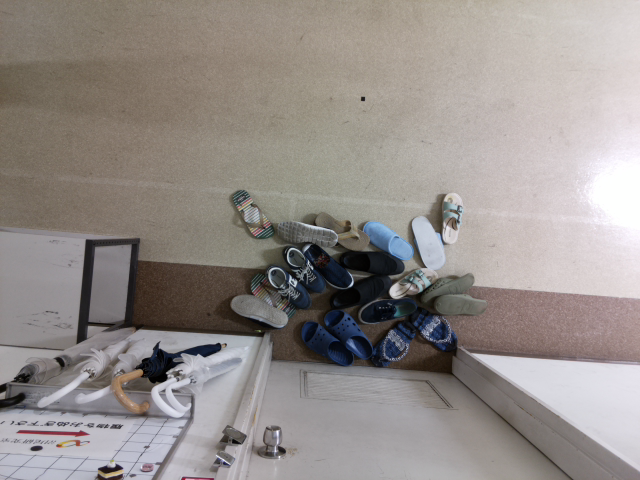Copy of Copy of Copy of Copy of Copy of Copy of Copy of Copy of Copy of Copy of: (322, 304, 374, 361), (296, 318, 355, 368), (368, 315, 420, 371), (407, 300, 459, 356), (227, 289, 288, 330), (246, 272, 299, 319), (354, 291, 419, 327), (417, 268, 477, 305), (430, 288, 488, 318)
Copy of Copy of Copy of Copy of Copy of Copy of Copy of Copy of Copy of shoe: (322, 267, 389, 309)
Copy of Copy of Copy of Copy of Copy of Copy of Copy of Copy of shoe: (327, 242, 408, 277)
Copy of Copy of Copy of Copy of Copy of Copy of Copy of shoe: (299, 240, 351, 290)
Copy of Copy of Copy of Copy of Copy of Copy of shoe: (279, 242, 324, 294)
Copy of Copy of Copy of Copy of Copy of shoe: (436, 191, 466, 245)
Copy of Copy of Copy of Copy of shoe: (410, 213, 447, 275)
Copy of Copy of Copy of shoe: (358, 217, 417, 264)
Copy of Copy of shoe: (310, 208, 368, 254)
Copy of shoe: (273, 216, 337, 252)
shoe: (228, 186, 275, 243)
